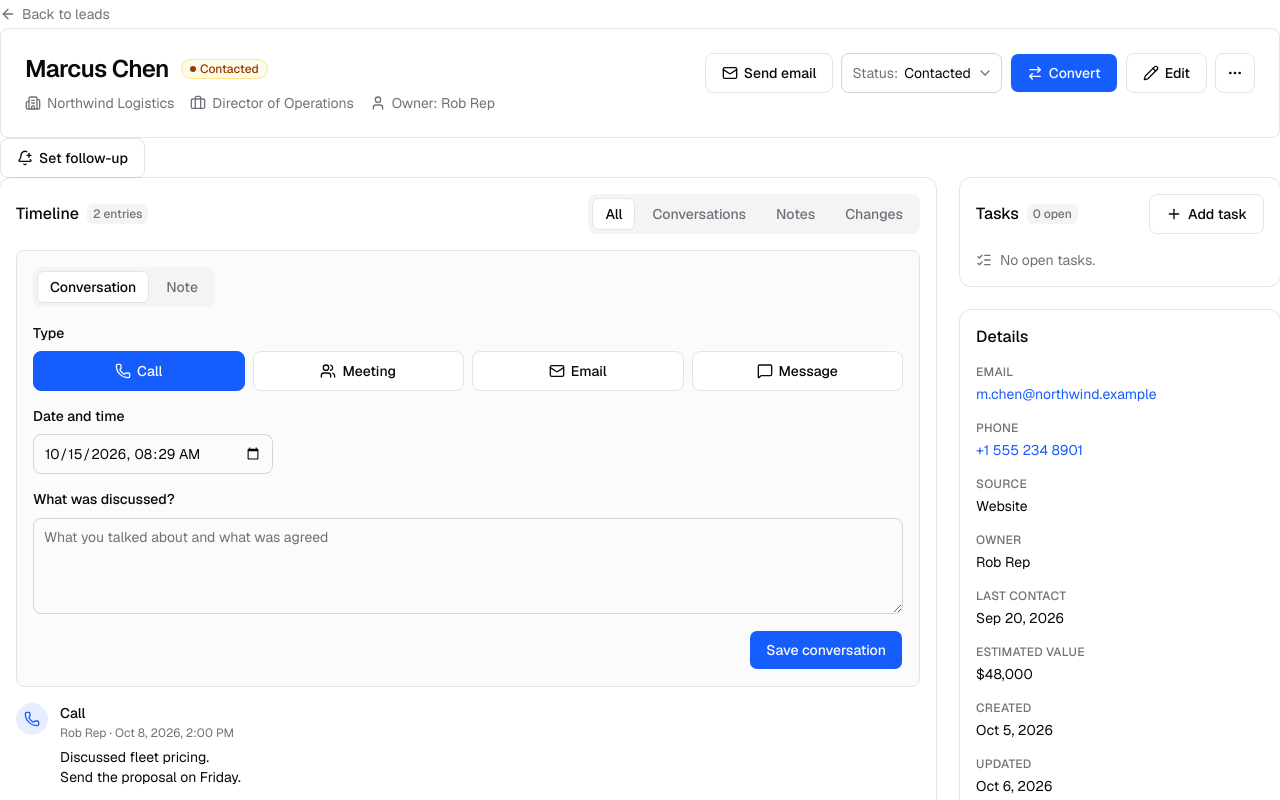
Scenario: LeadDetailPage › explains a refused mark-as-lost in the dialog and keeps it open
The width and height of the screenshot is (1280, 800).
Check: the heading "Marcus Chen" is shown, box top-left (25, 53), bottom-right (169, 85)
Click the button named "More actions". click: (1235, 73)
box: top-left (1215, 53), bottom-right (1255, 93)
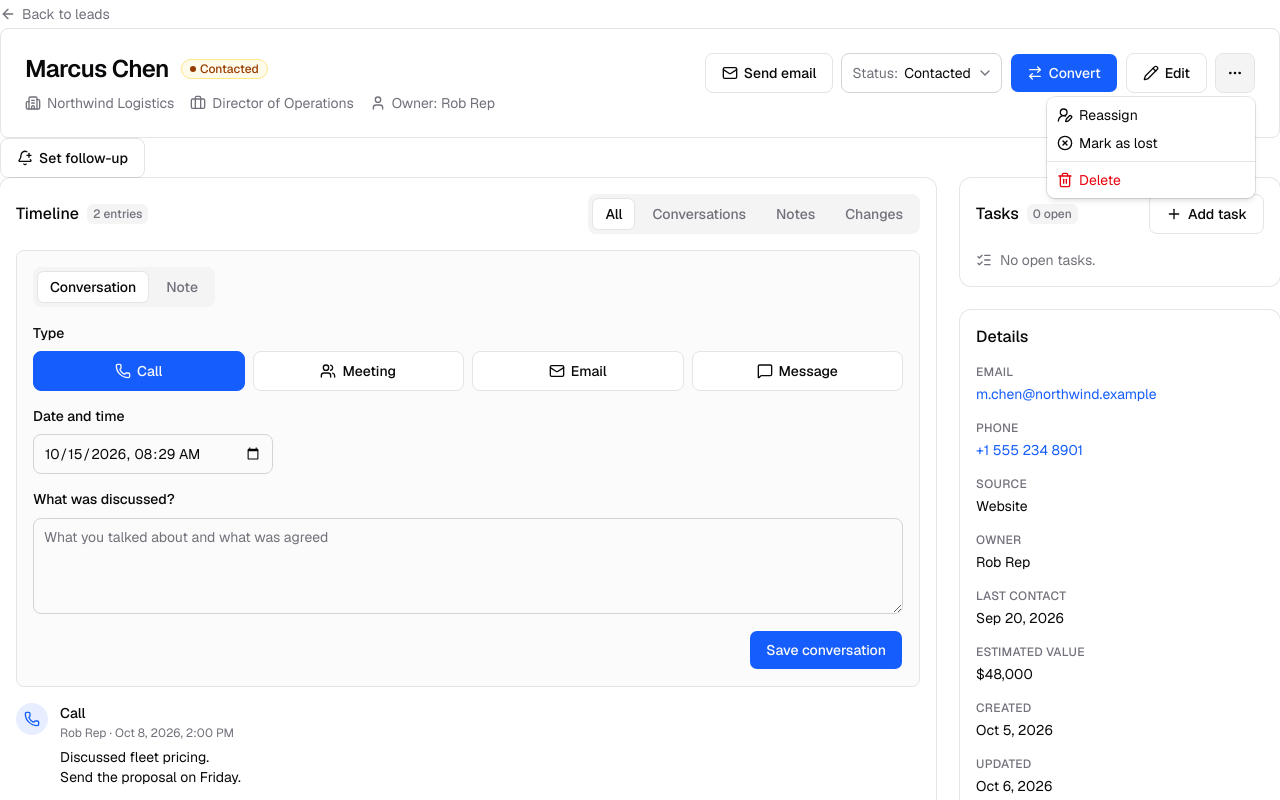
Click the menu item "Mark as lost". click: (1107, 143)
box: top-left (1057, 134), bottom-right (1158, 152)
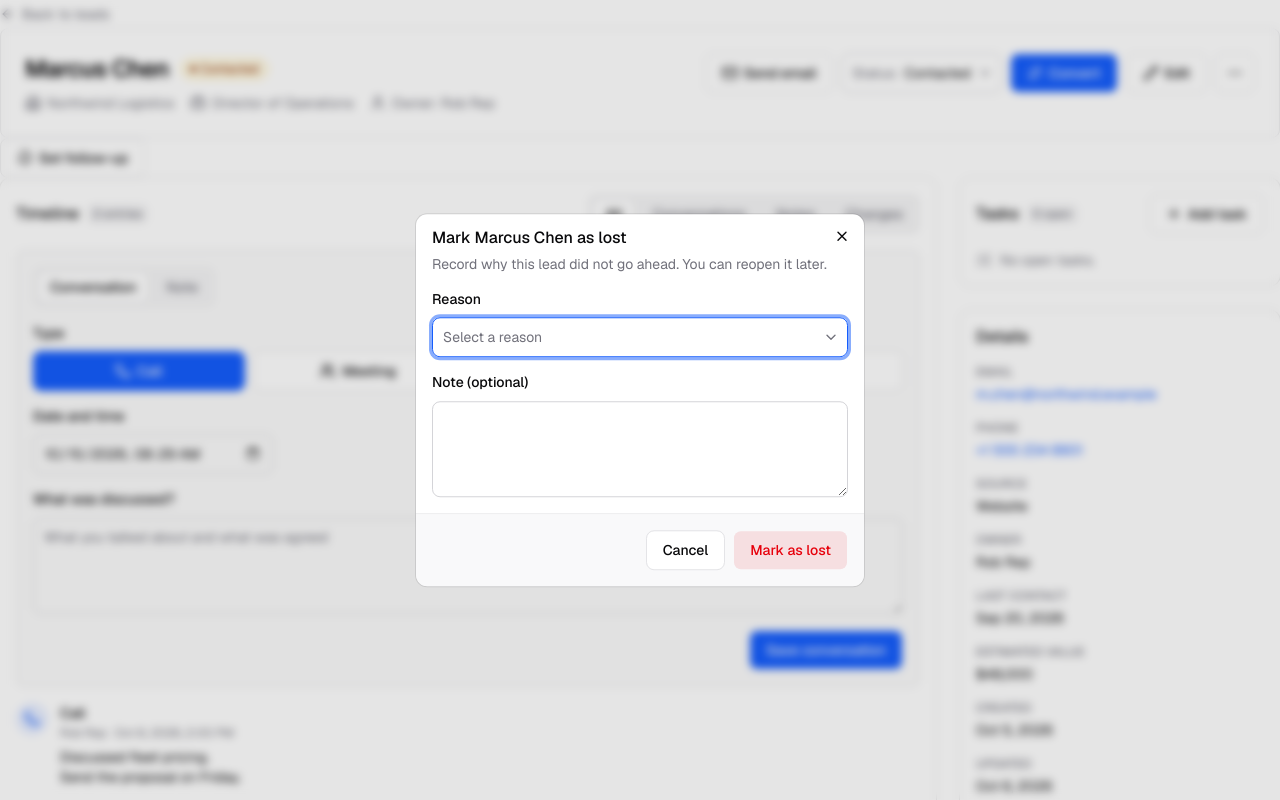
Click the dropdown labelled "reason". click: (493, 338)
box: top-left (432, 318), bottom-right (848, 358)
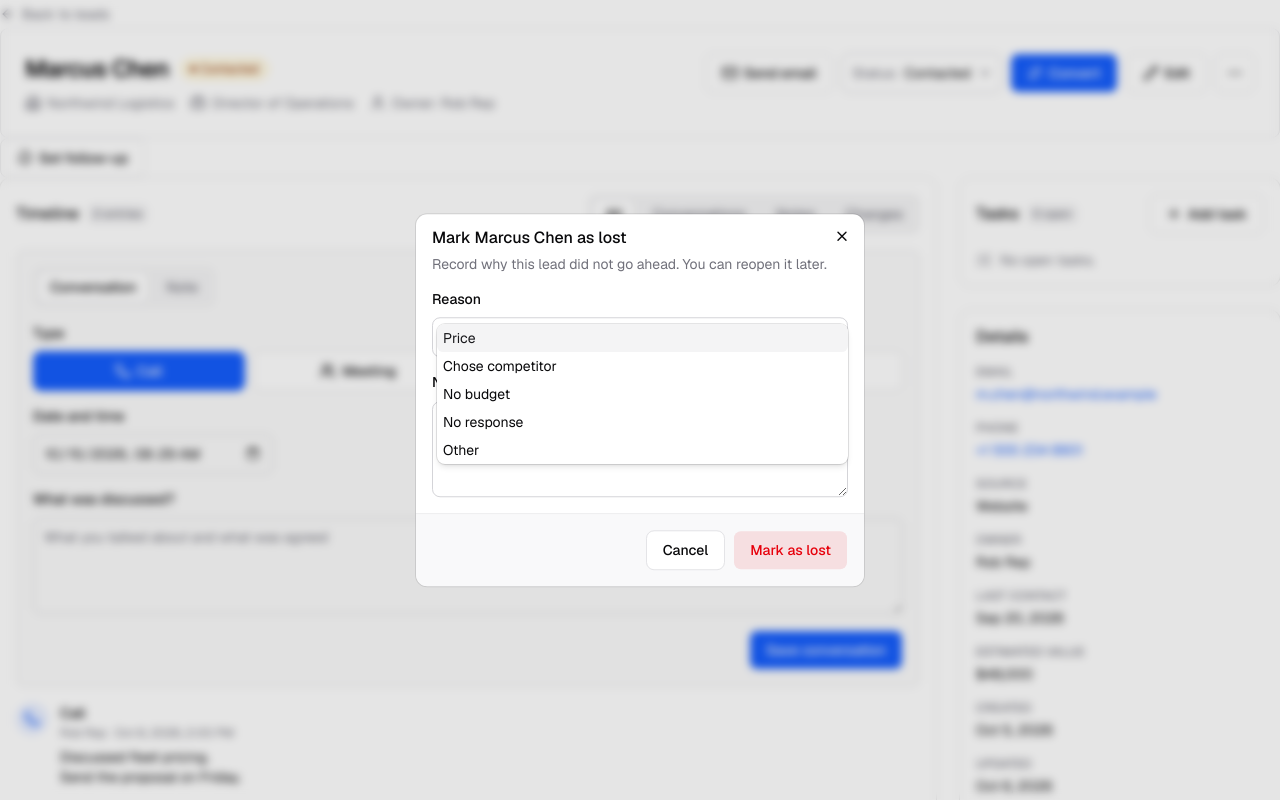
Click the option "Other". click: (461, 450)
box: top-left (443, 440), bottom-right (479, 458)
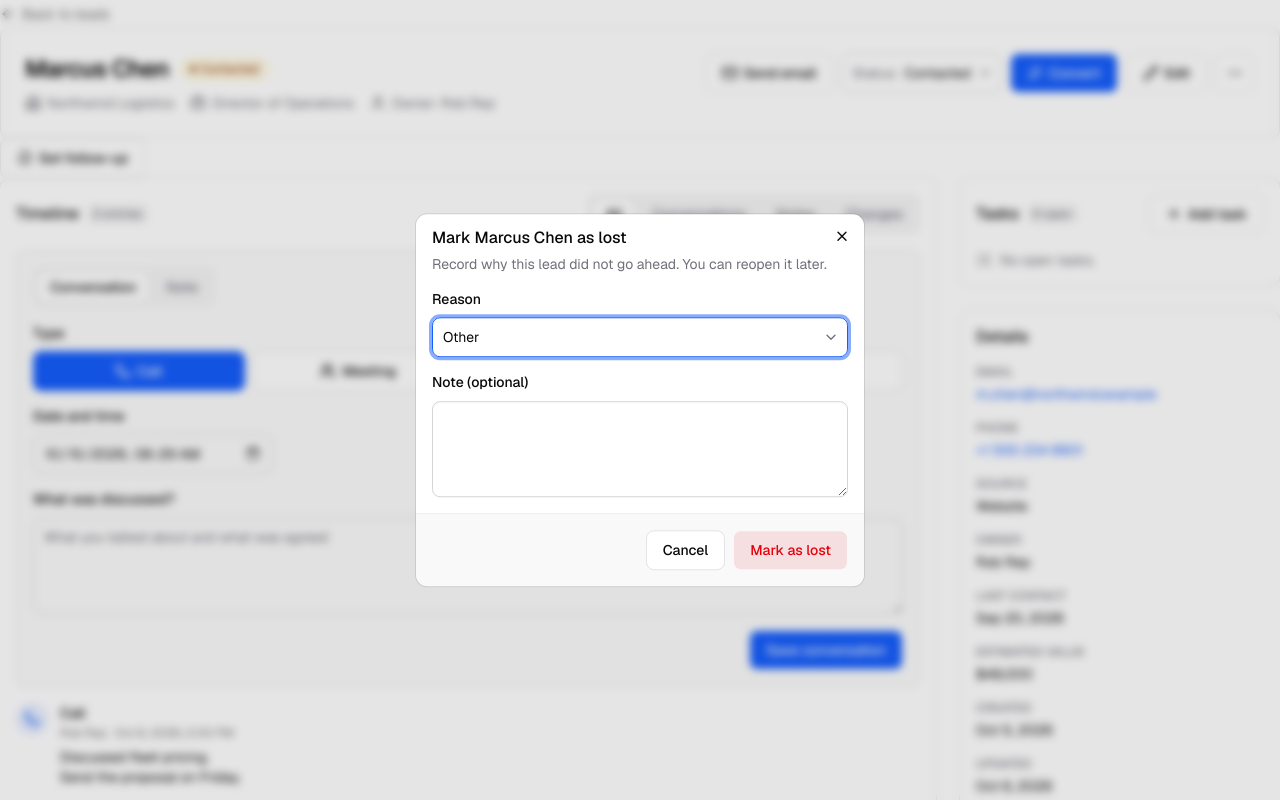
Click the button "Mark as lost". click: (791, 550)
box: top-left (733, 530), bottom-right (848, 570)
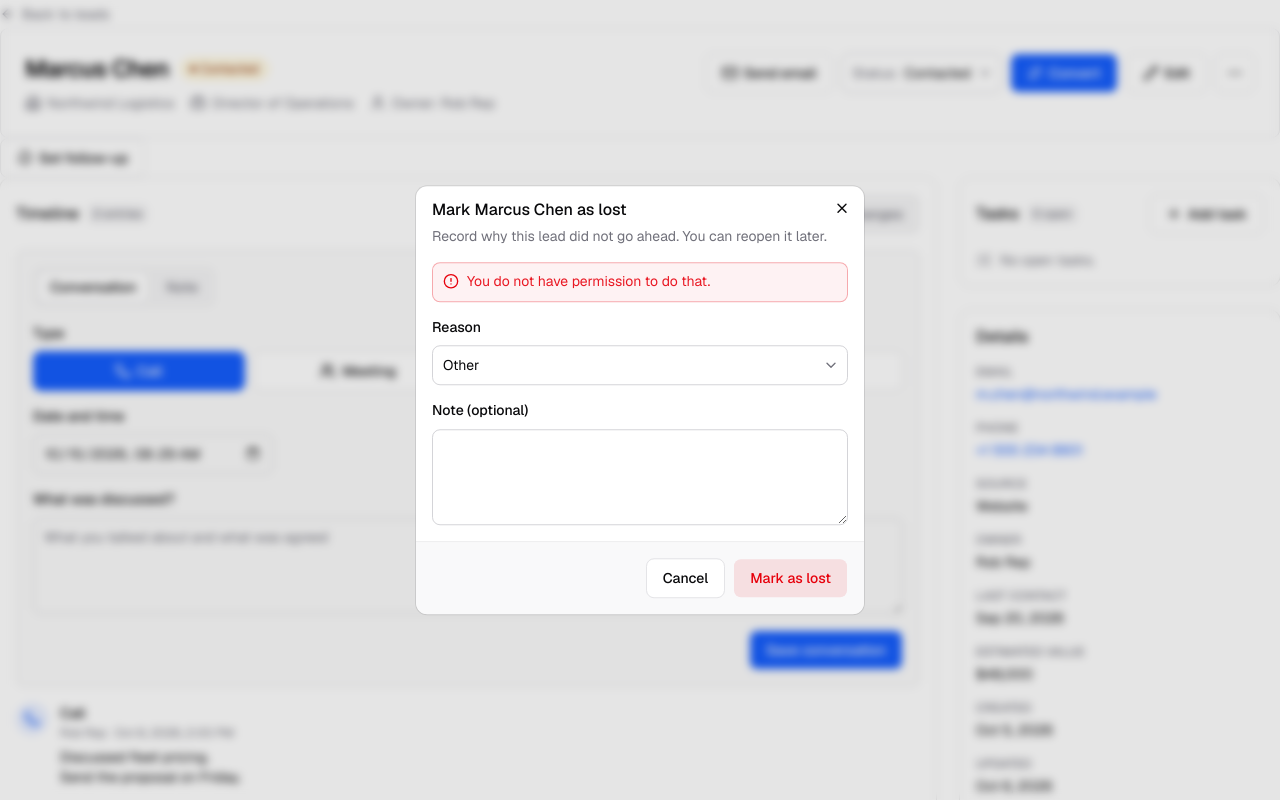
Check: the message reads "You do not have permission to do that.", box top-left (467, 272), bottom-right (710, 290)
